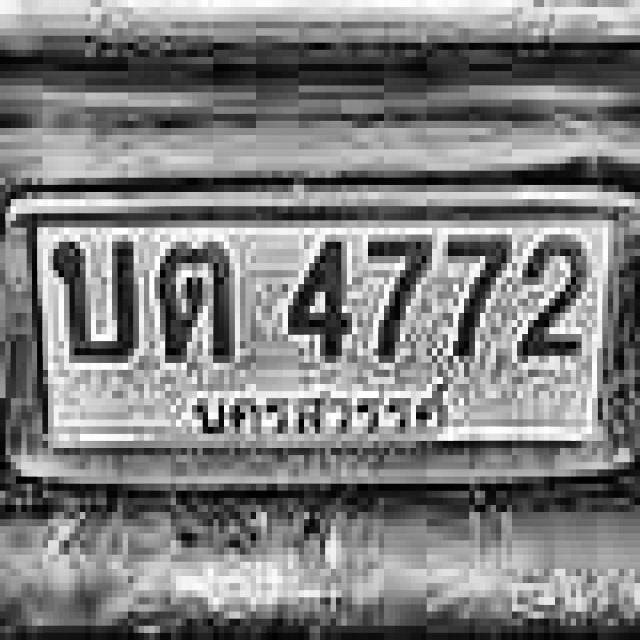license-plate: (0, 191, 640, 484)
